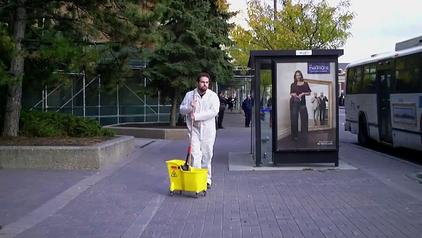stay: (177, 78, 222, 178), (287, 71, 311, 132), (241, 94, 254, 124)
walk: (177, 78, 222, 178)
